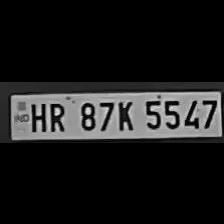4: (181, 96, 199, 128)
5: (140, 95, 162, 129), (162, 96, 180, 128)
7: (95, 97, 113, 131), (199, 96, 217, 128)
8: (73, 98, 97, 132)
H: (28, 99, 46, 131)
K: (113, 97, 137, 131)
R: (44, 98, 68, 132)
